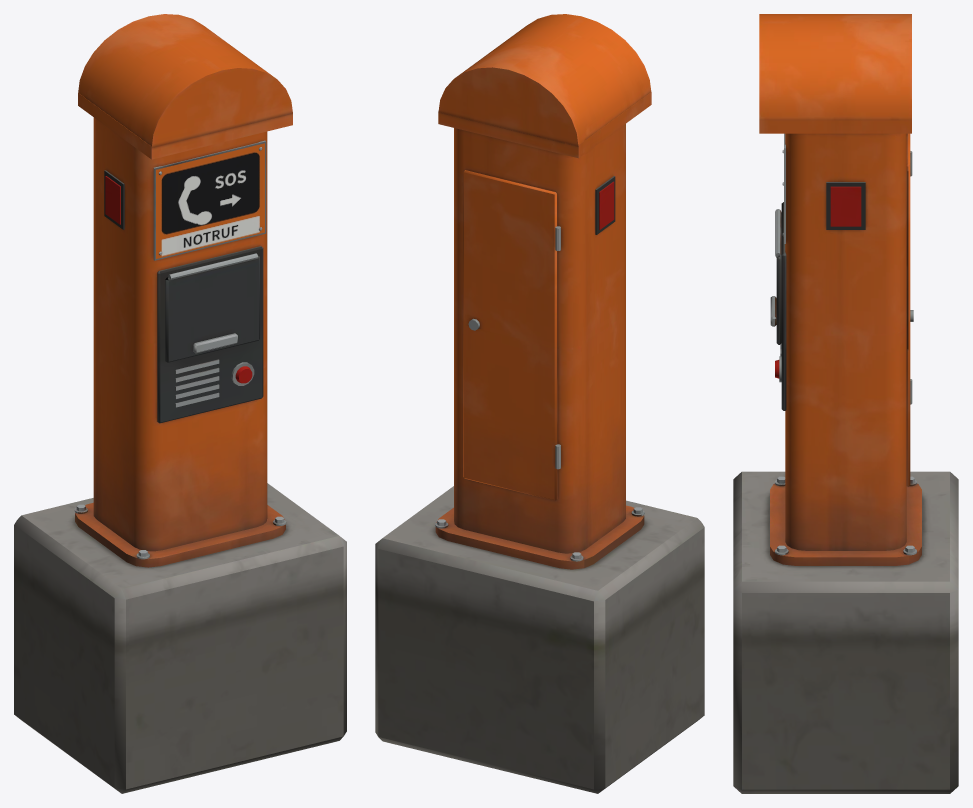
File: emergency_phone.glb
3 views of the same model, side by side, from view 1: azimuth 30°, elevation 25°; view 2: azimuth 150°, elevation 25°; view 3: azimuth 270°, elevation 25° (orthographic). The views are drawn at different scales.
Visible parts, largest first — view 1: emergency_phone; view 2: emergency_phone; view 3: emergency_phone.
Boxes of the visible parts, box(x1,y1,x2,y2) form: emergency_phone: box(14, 14, 346, 793); emergency_phone: box(375, 14, 704, 793); emergency_phone: box(733, 14, 958, 793).
Bounding box in the file's own units: 0.6399 × 1.82 × 0.5199.
Materials: 1 (1 with a texture image).
